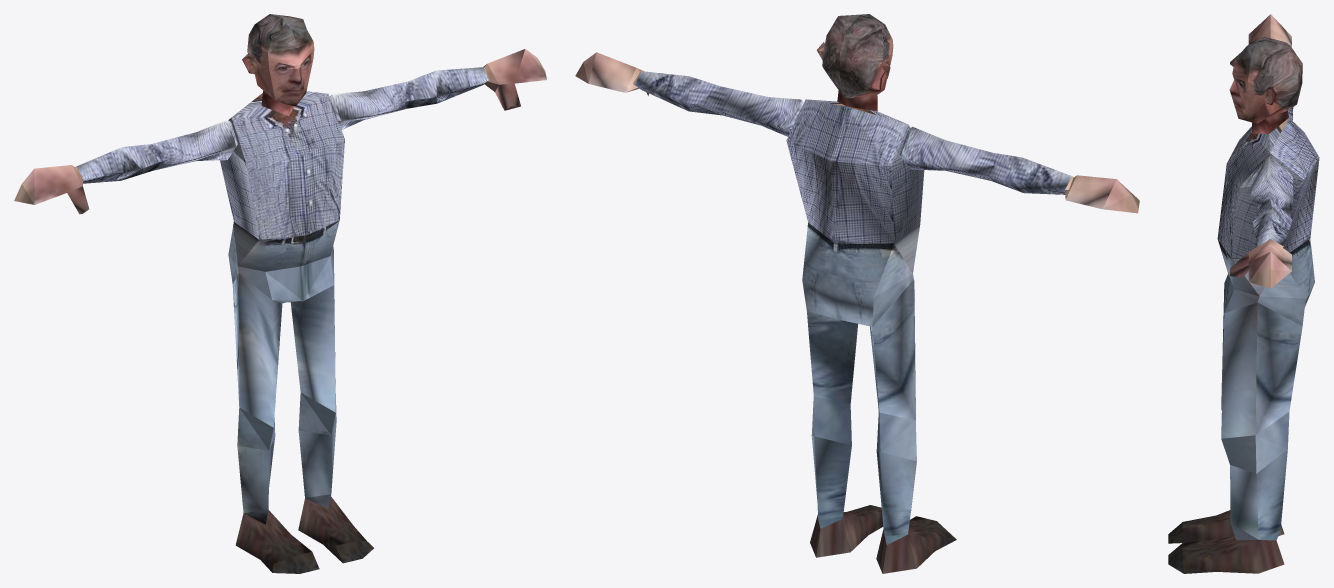
The model's file is low_poly_humanoids.fbx.
3 views of the same model, side by side, from view 1: azimuth 30°, elevation 25°; view 2: azimuth 150°, elevation 25°; view 3: azimuth 270°, elevation 25° (orthographic). The views are drawn at different scales.
Visible parts, largest first — view 1: boy.001; view 2: boy.001; view 3: boy.001.
Boxes of the visible parts, x1=… form: boy.001: x1=14, y1=14, x2=546, y2=573; boy.001: x1=575, y1=14, x2=1139, y2=573; boy.001: x1=1168, y1=14, x2=1319, y2=573.
Bounding box in the file's own units: 183 × 168 × 45.37.
1 material, 1 textured.
